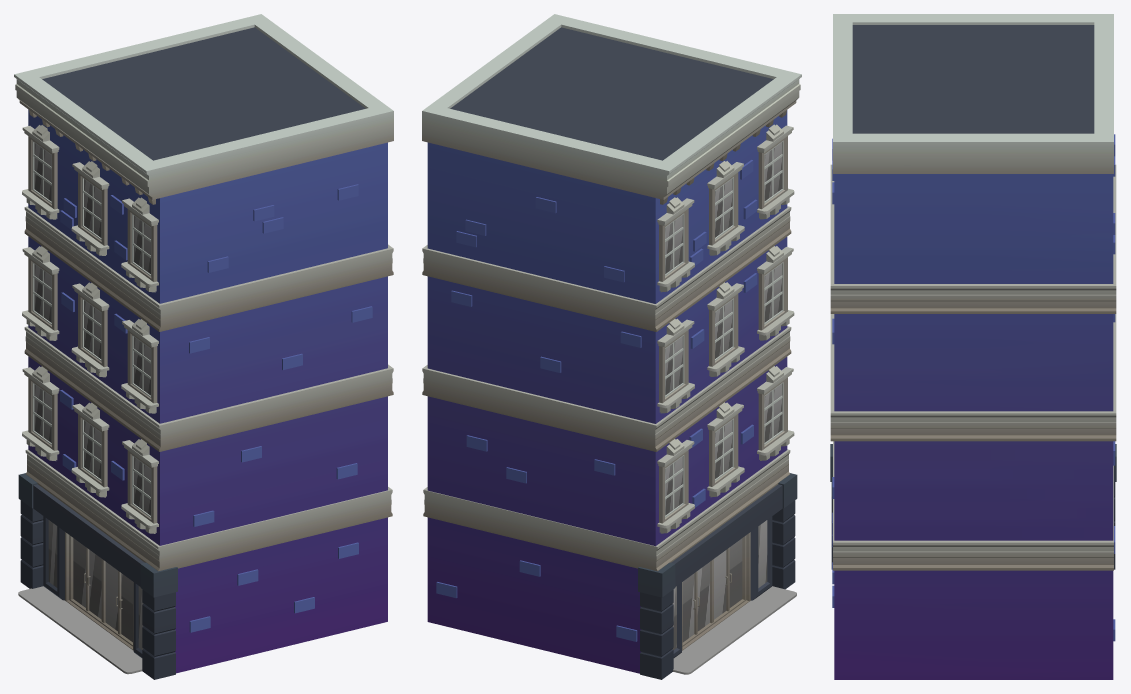
Rendered from Building_21_2_D.fbx.
The picture shows the model from 3 angles, left to right: view 1: azimuth 30°, elevation 25°; view 2: azimuth 150°, elevation 25°; view 3: azimuth 270°, elevation 25°; orthographic projection. The views are drawn at different scales.
Parts seen in each view (by area): view 1: Building_21_2_D; view 2: Building_21_2_D; view 3: Building_21_2_D.
Boxes of the visible parts, bbox=[...] form: Building_21_2_D: bbox=[14, 14, 393, 679]; Building_21_2_D: bbox=[422, 14, 801, 679]; Building_21_2_D: bbox=[830, 14, 1116, 679].
Bounding box in the file's own units: 779 × 1485 × 713.
